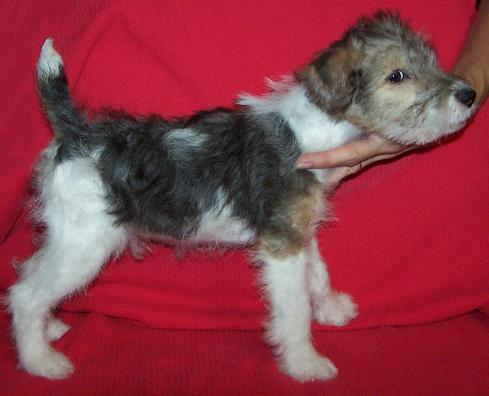wire-haired_fox_terrier: (4, 9, 476, 382)
